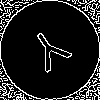Y: (25, 25, 79, 81)
